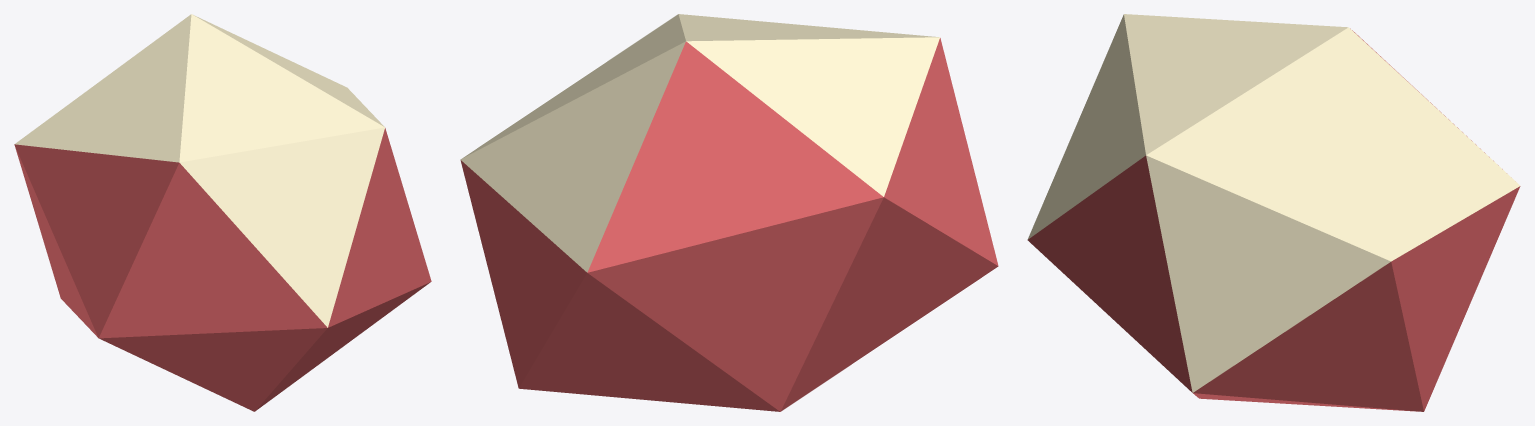
File: rock.glb
The picture shows the model from 3 angles, left to right: view 1: azimuth 30°, elevation 25°; view 2: azimuth 150°, elevation 25°; view 3: azimuth 270°, elevation 25°; orthographic projection. The views are drawn at different scales.
Parts seen in each view (by area): view 1: Rock; view 2: Rock; view 3: Rock.
Part boxes in pixels (x1,y1,x2,y2): Rock: (14, 14, 431, 411); Rock: (460, 14, 998, 411); Rock: (1027, 14, 1520, 411).
Size of the model in its own units: 0.7583 by 0.7023 by 0.838.
